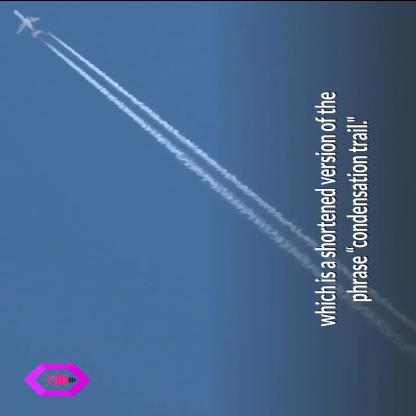plane: (7, 7, 49, 37)
